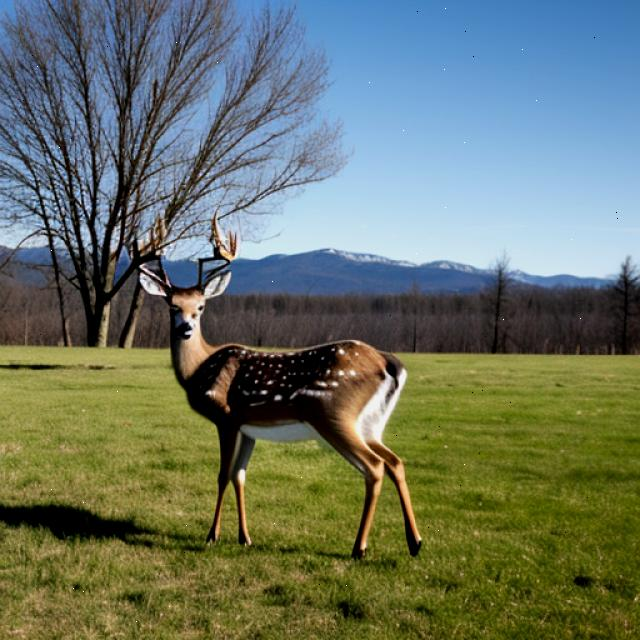deer: (125, 213, 235, 351)
